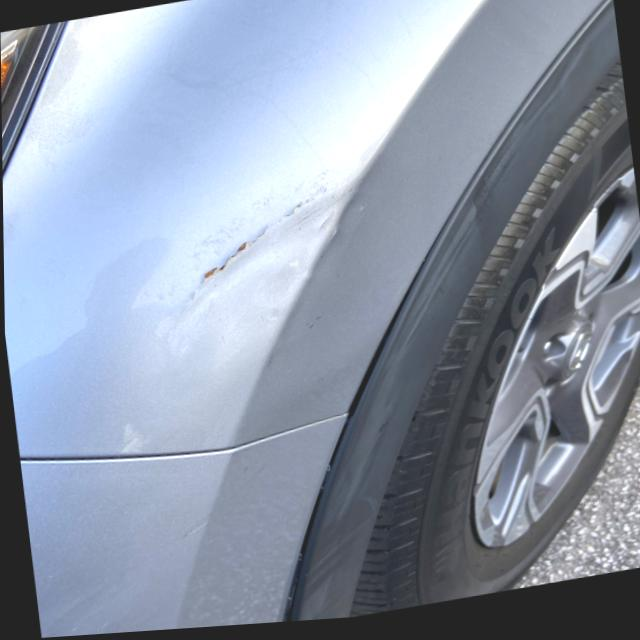Paint-Crack: (177, 163, 354, 288)
